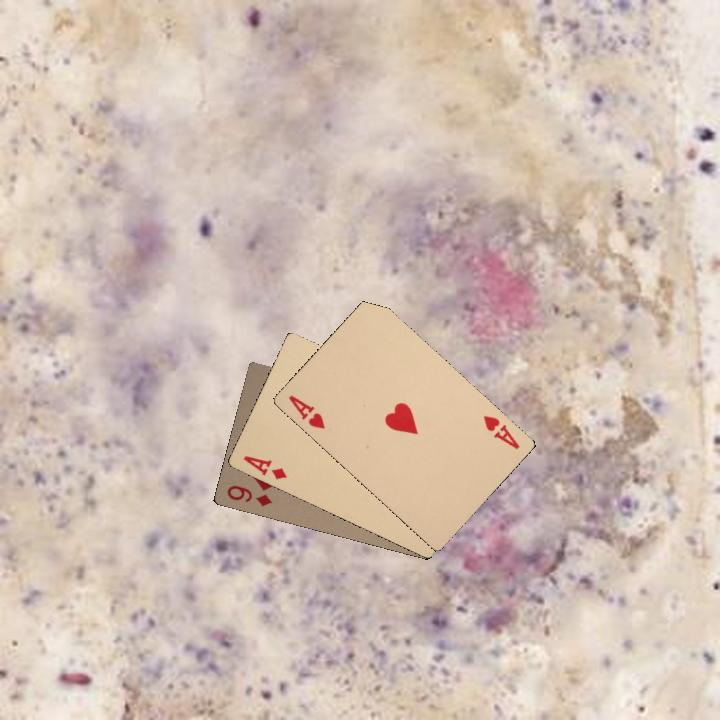9d: (223, 479, 275, 509)
Ad: (239, 451, 289, 482)
Ah: (479, 411, 522, 452), (284, 391, 327, 431)
